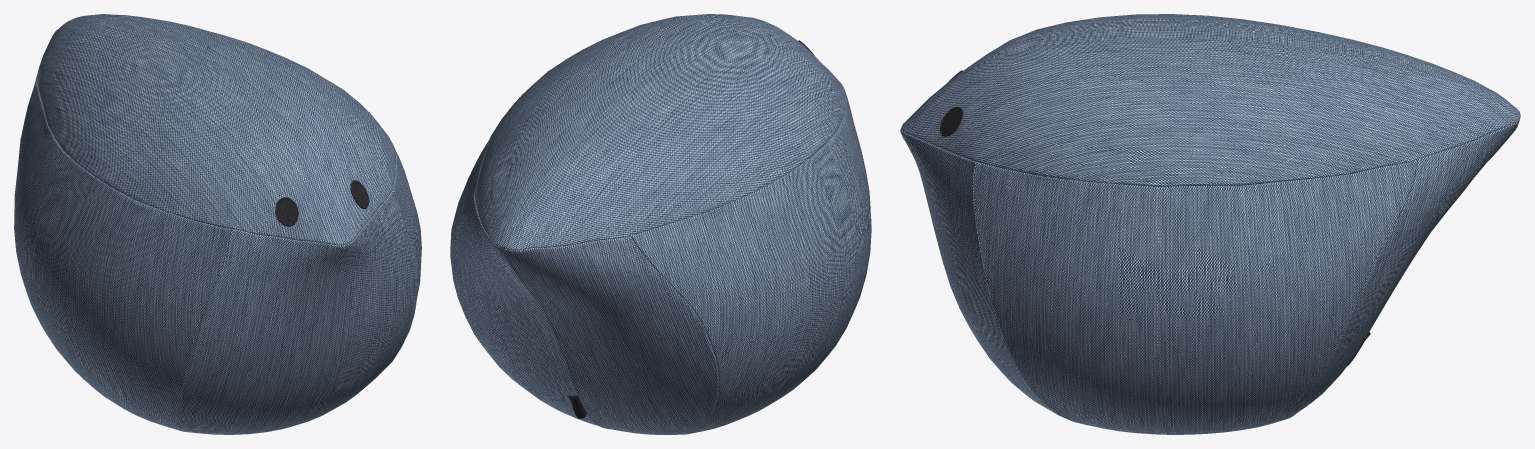
Rendered from Hulsta_Birdy_Pouf_mat(7).fbx.
3 views of the same model, side by side, from view 1: azimuth 30°, elevation 25°; view 2: azimuth 150°, elevation 25°; view 3: azimuth 270°, elevation 25° (orthographic). The views are drawn at different scales.
Parts seen in each view (by area): view 1: Hulsta_Birdy_Pouf_mat7; view 2: Hulsta_Birdy_Pouf_mat7; view 3: Hulsta_Birdy_Pouf_mat7.
Part boxes in pixels (bbox=[...]): Hulsta_Birdy_Pouf_mat7: bbox=[14, 14, 421, 434]; Hulsta_Birdy_Pouf_mat7: bbox=[450, 14, 871, 434]; Hulsta_Birdy_Pouf_mat7: bbox=[900, 14, 1520, 434].
Bounding box in the file's own units: 50.8 × 74.33 × 48.
